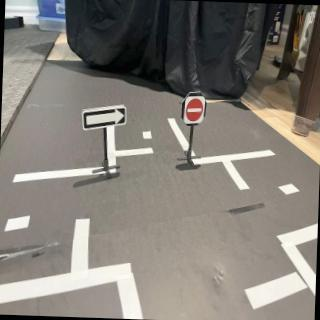sign_noentry: (184, 96, 207, 127)
sign_oneway_right: (82, 104, 129, 134)
